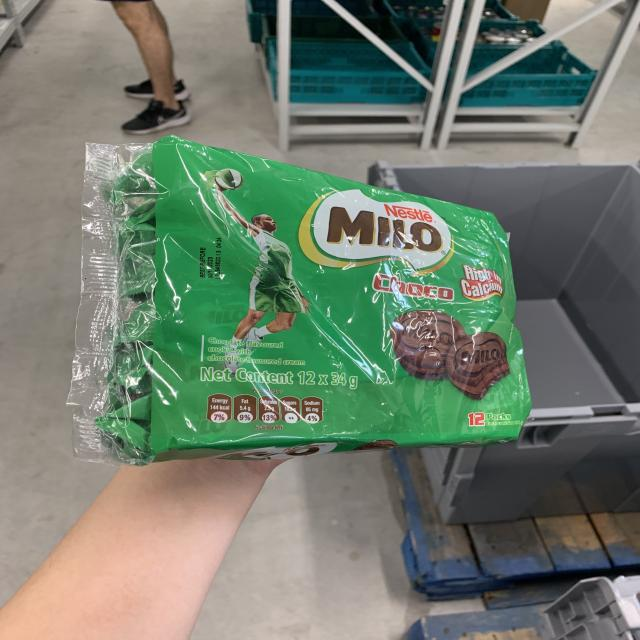object_name: (97, 152, 523, 448)
